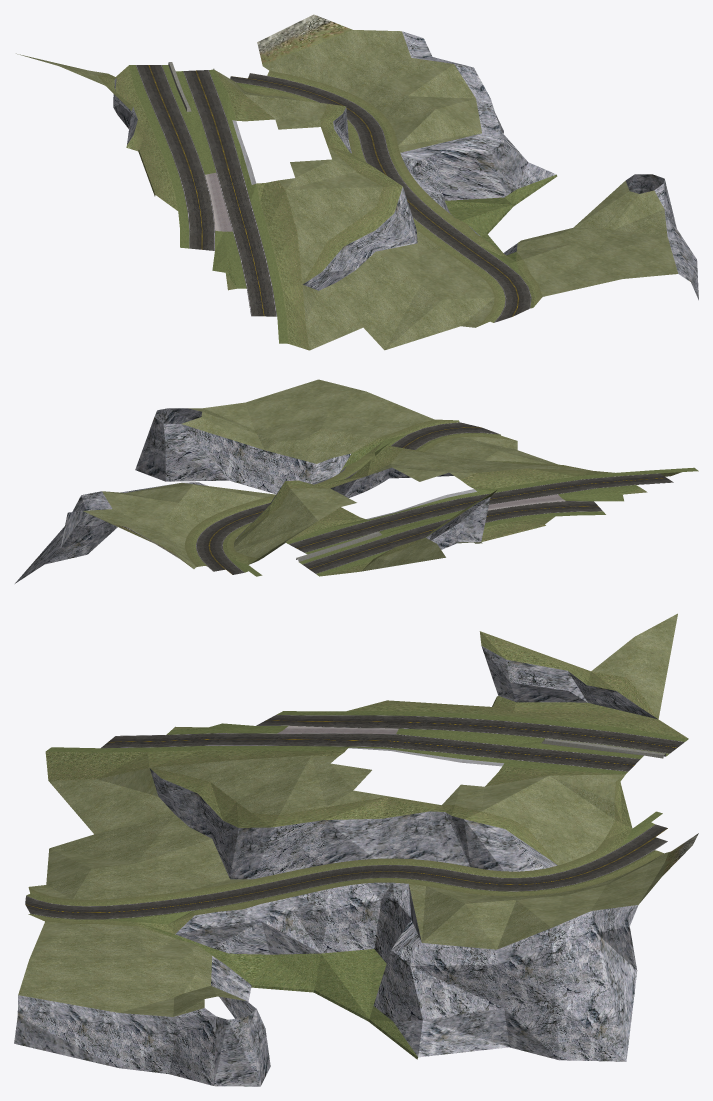
File: nw_bit_12.obj
The picture shows the model from 3 angles, top to bottom: view 1: azimuth 30°, elevation 25°; view 2: azimuth 150°, elevation 25°; view 3: azimuth 270°, elevation 25°; orthographic projection. The views are drawn at different scales.
Visible parts, largest first — view 1: nw_bit_12; view 2: nw_bit_12; view 3: nw_bit_12.
Part boxes in pixels (box(x1,y1,x2,y2)): nw_bit_12: box(16, 14, 698, 350); nw_bit_12: box(15, 379, 698, 583); nw_bit_12: box(14, 613, 698, 1086).
Size of the model in its own units: 252 by 78.77 by 257.
14 materials, 14 textured.
